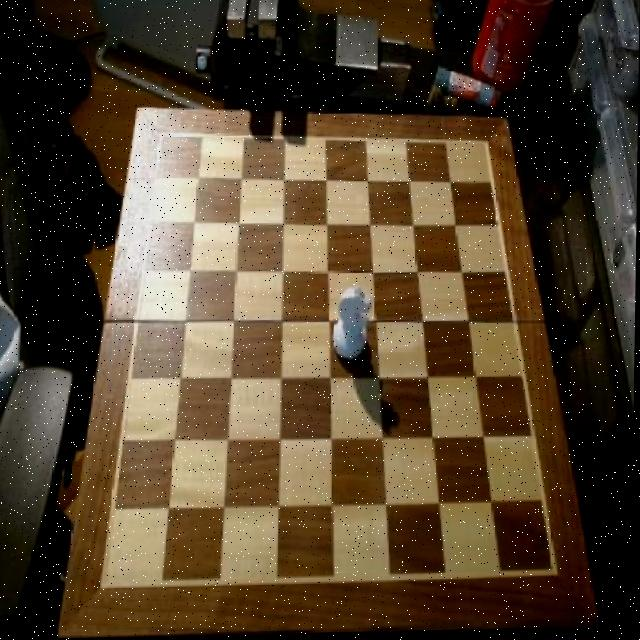white-king: (332, 285, 372, 367)
